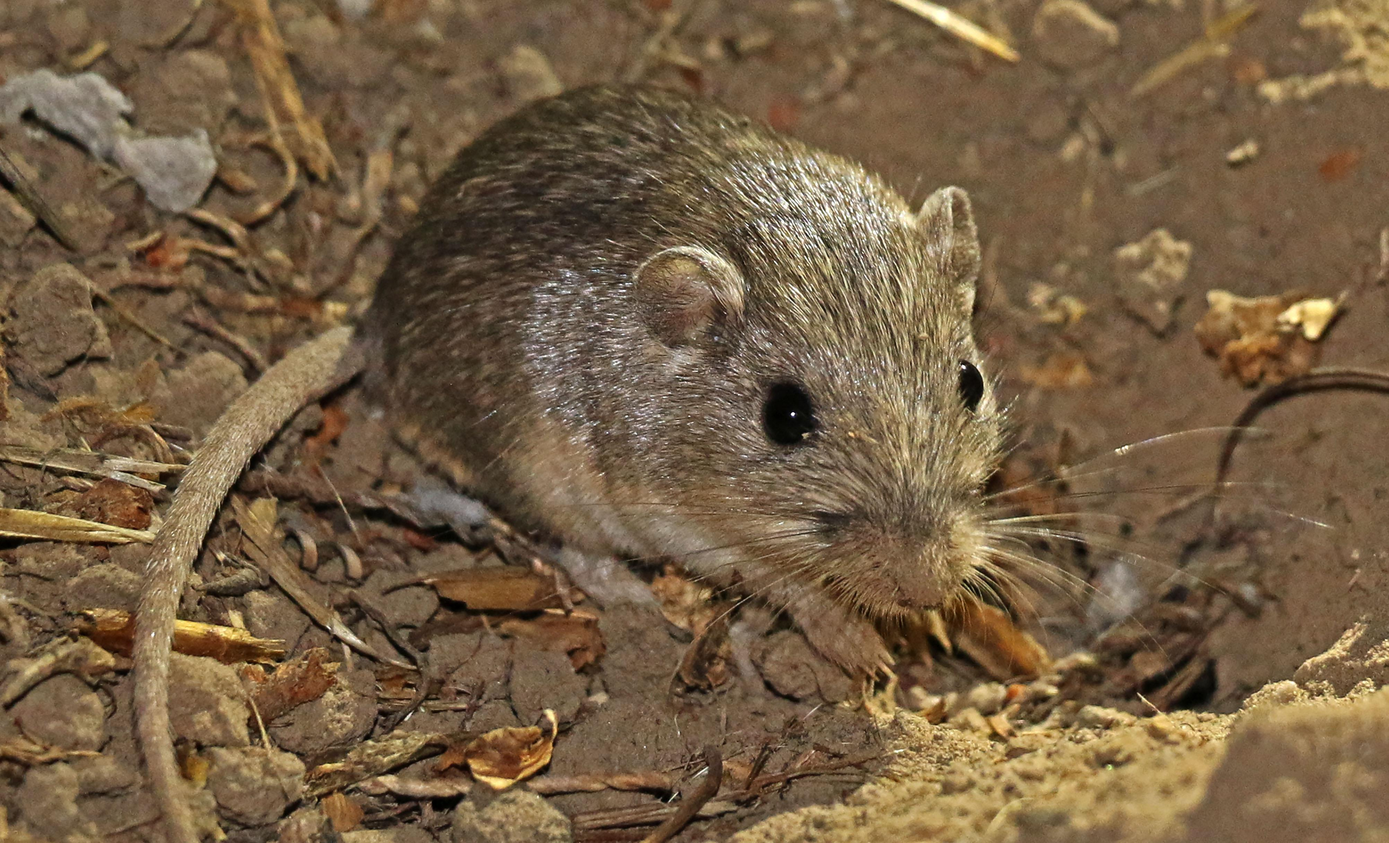rat: (132, 84, 1002, 843)
